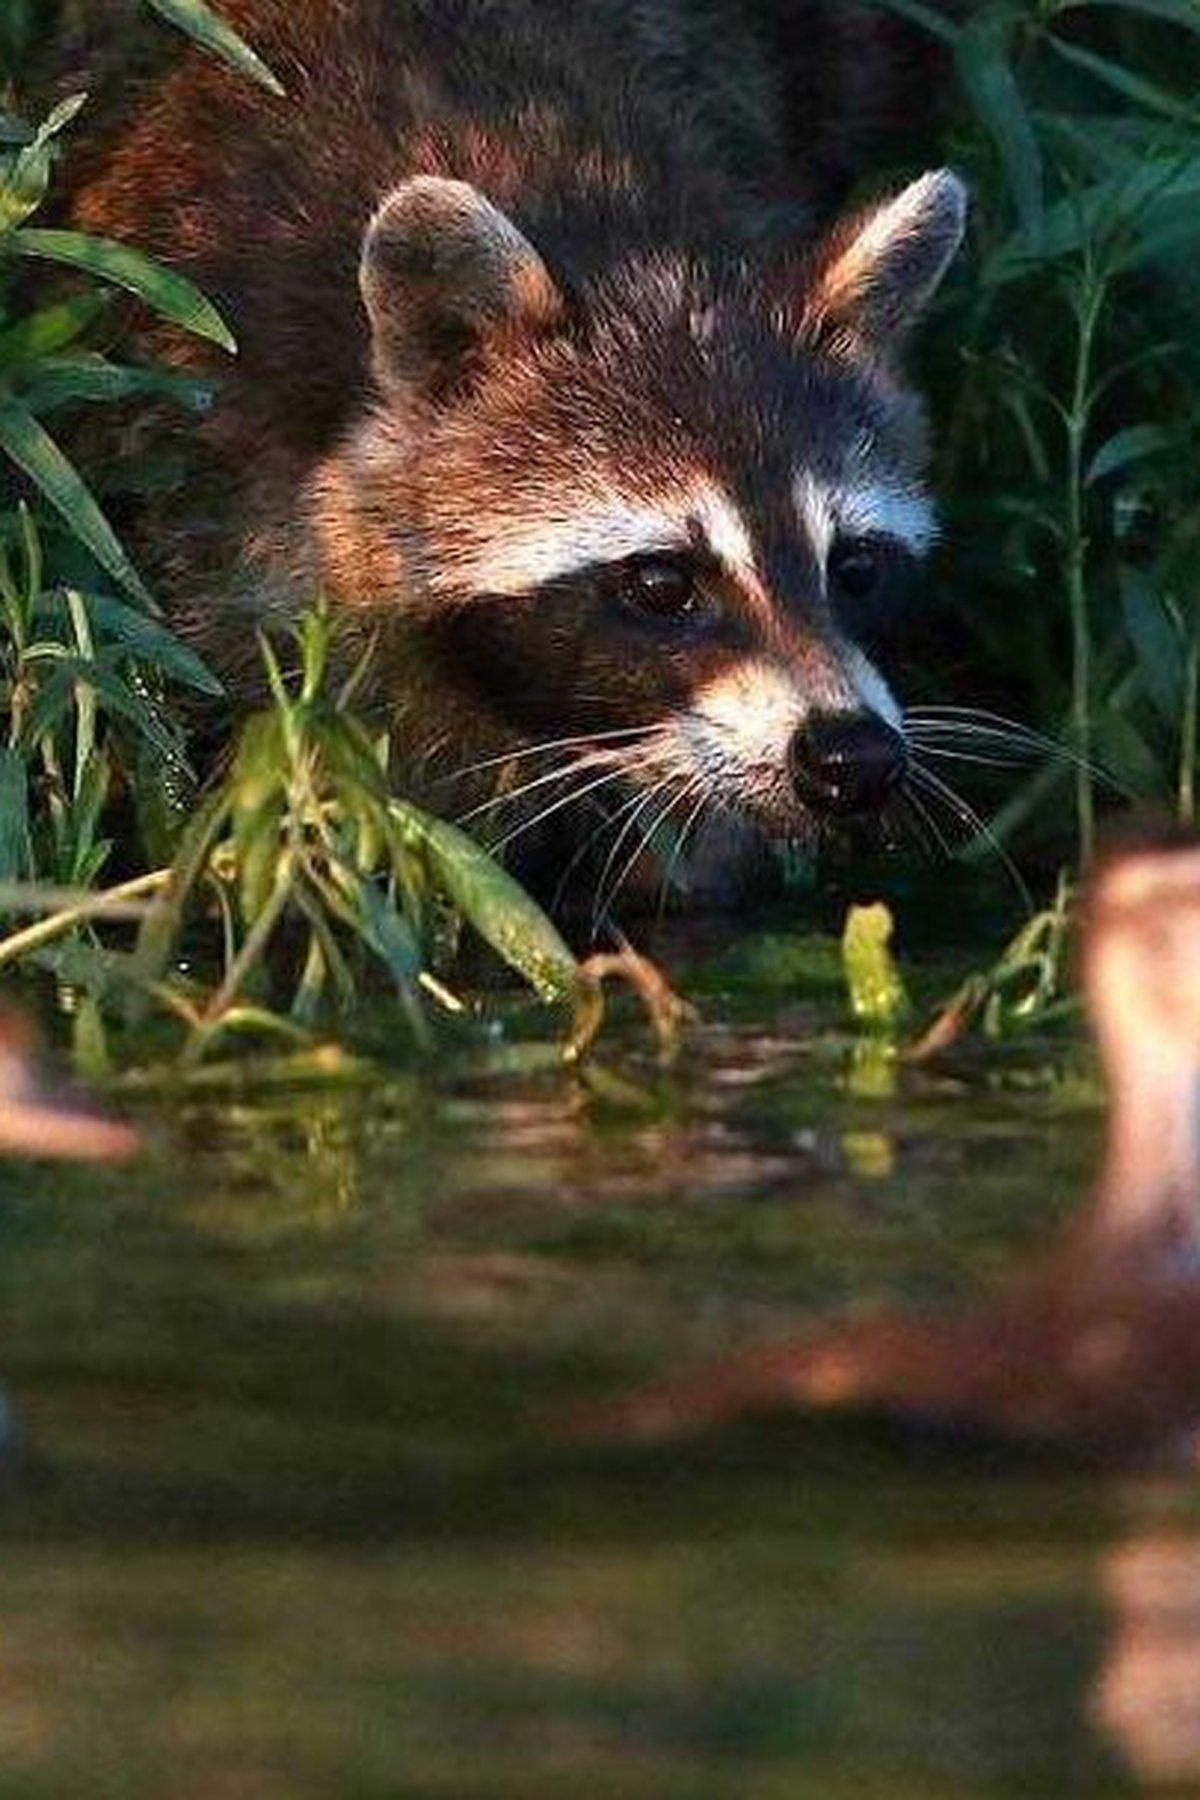raccoon: (12, 2, 1132, 997)
